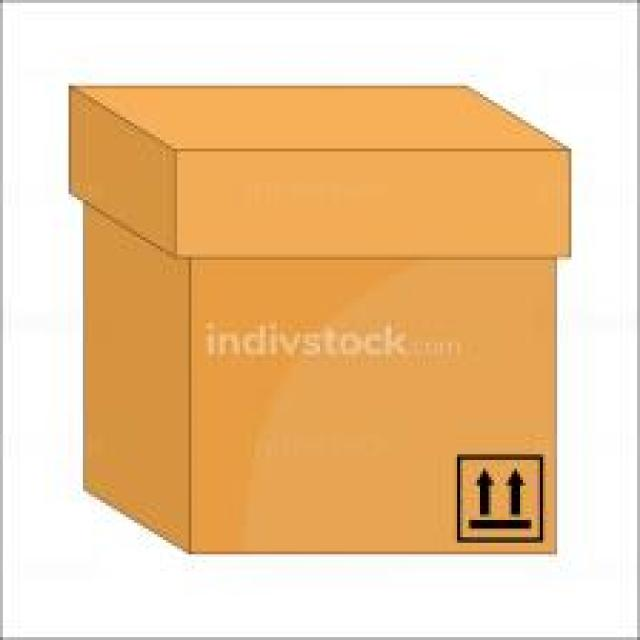box: (63, 84, 570, 554)
